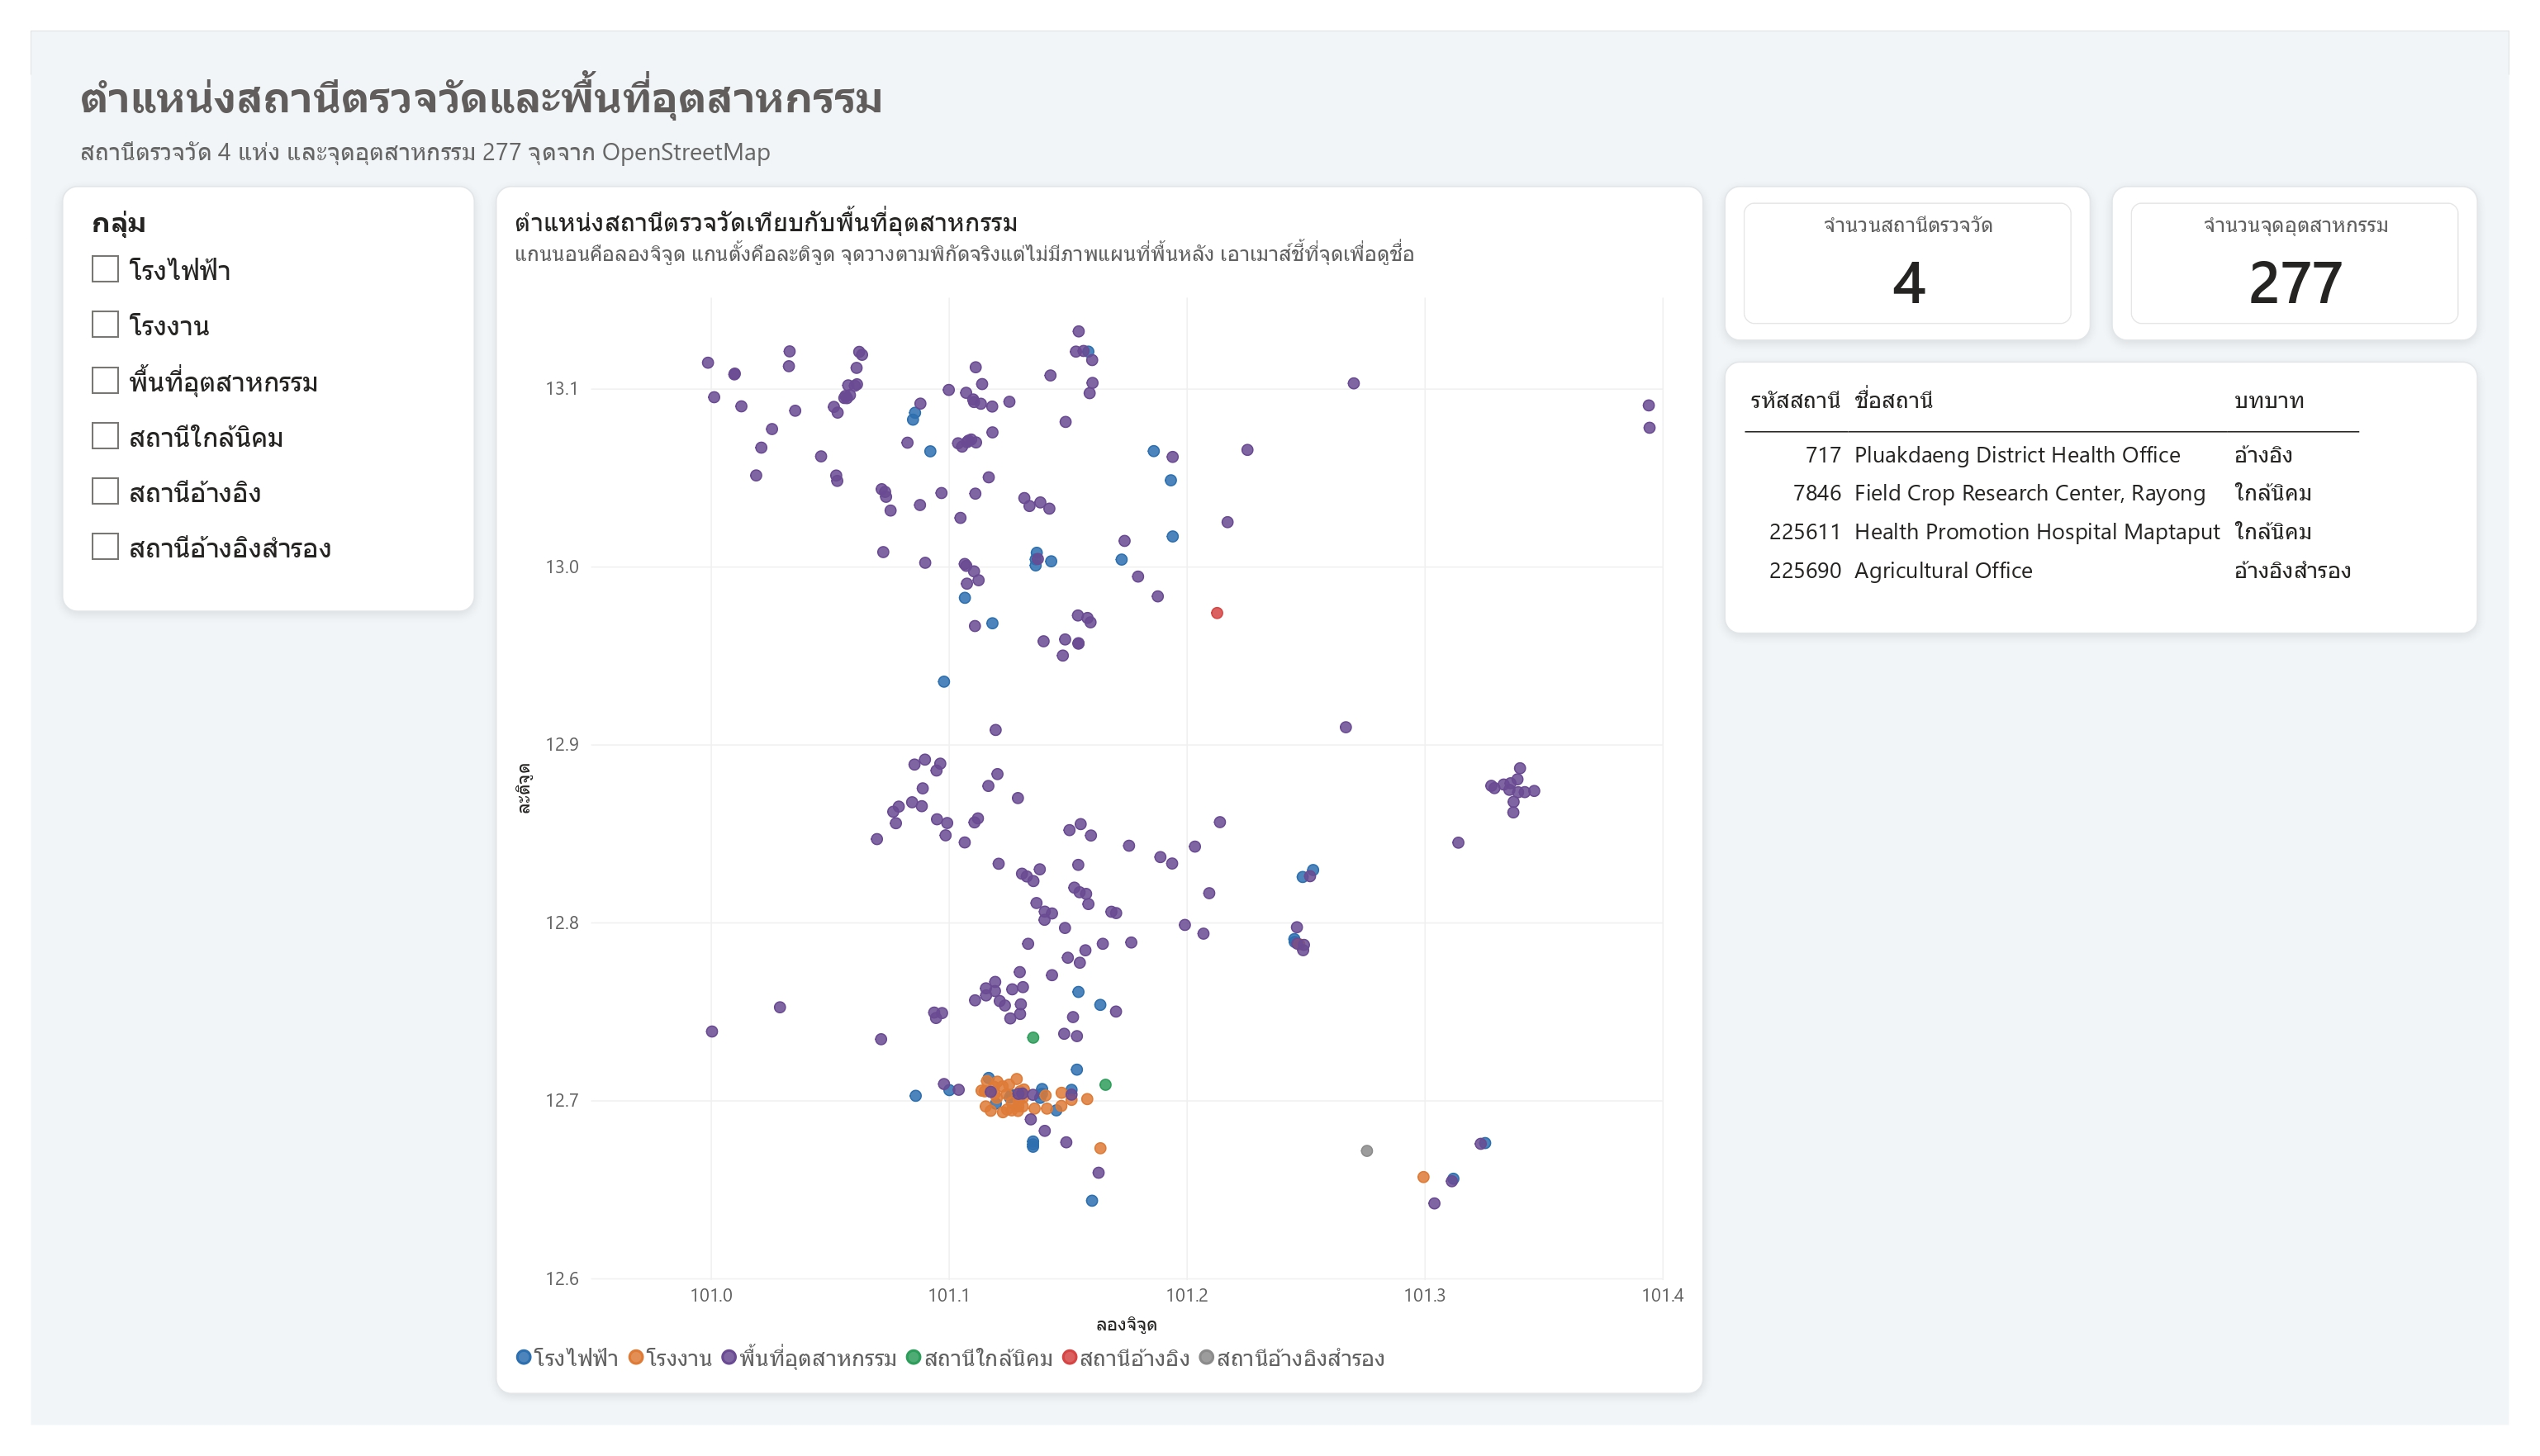

This screenshot's page, from the dashboard's own definition file:
{"tool":"powerbi","page":{"name":"แผนที่","canvas":[1920,1080],"ordinal":4},"visuals":[{"type":"textbox","box":[24,16,1872,72],"z":1000},{"type":"textbox","box":[24,68,1872,52],"z":2000},{"type":"slicer","fields":{"Values":["map_points.กลุ่ม"]},"box":[24,120,320,330],"z":3000},{"type":"cardVisual","fields":{"Data":["map_points.จำนวนสถานี"]},"box":[1312,120,284,120],"z":5000},{"type":"cardVisual","fields":{"Data":["map_points.จำนวนจุดอุตสาหกรรม"]},"box":[1612,120,284,120],"z":6000},{"type":"scatterChart","title":"ตำแหน่งสถานีตรวจวัดเทียบกับพื้นที่อุตสาหกรรม","fields":{"Category":["map_points.รหัสจุด"],"Series":["map_points.กลุ่ม"],"X":["map_points.lon"],"Y":["map_points.lat"]},"box":[360,120,936,936],"z":7001},{"type":"tableEx","title":"สถานีตรวจวัดทั้ง 4 แห่ง","fields":{"Values":["stations.station_id","stations.station_name","stations.role_th"]},"box":[1312.3,255.8,583.4,211.7],"z":9000}]}

Visuals, with their boxes on the page's 1920x1080 design canvas (x1, y1, x2, y2). These are canvas units, not pixel positions in the 2540x1456 screenshot, which may show the page scaled, cropped or inside an application window:
textbox: [24, 16, 1896, 88]
textbox: [24, 68, 1896, 120]
slicer - map_points.กลุ่ม: [24, 120, 344, 450]
cardVisual - map_points.จำนวนสถานี: [1312, 120, 1596, 240]
cardVisual - map_points.จำนวนจุดอุตสาหกรรม: [1612, 120, 1896, 240]
"ตำแหน่งสถานีตรวจวัดเทียบกับพื้นที่อุตสาหกรรม" scatterChart: [360, 120, 1296, 1056]
"สถานีตรวจวัดทั้ง 4 แห่ง" tableEx: [1312, 256, 1896, 468]
